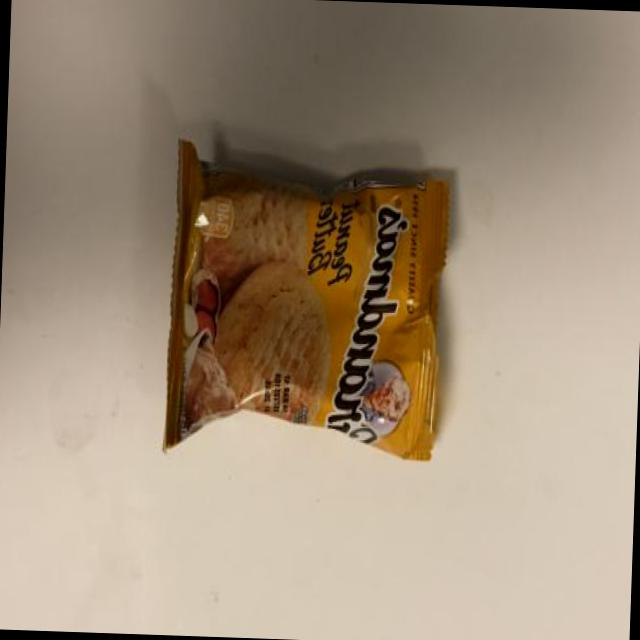bao_bi_thuc_pham: (164, 142, 450, 463)
